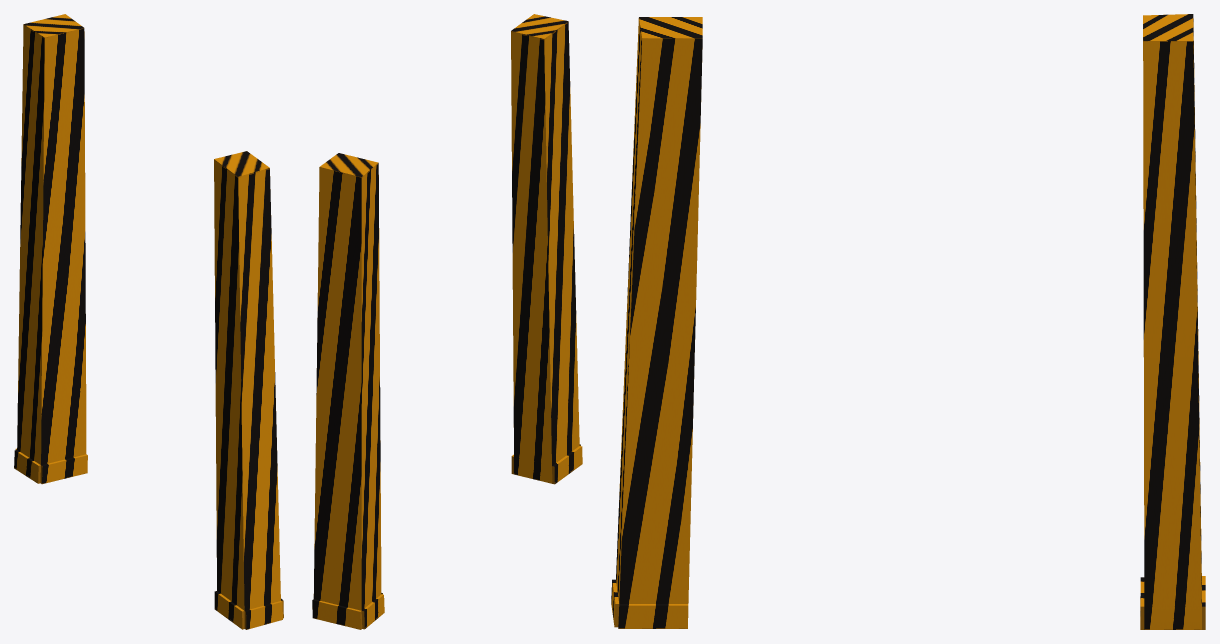
The model's file is dev_metaldoorr2.FBX.
The picture shows the model from 3 angles, left to right: view 1: azimuth 30°, elevation 25°; view 2: azimuth 150°, elevation 25°; view 3: azimuth 270°, elevation 25°; orthographic projection. The views are drawn at different scales.
Visible parts, largest first — view 1: Box003, Box002; view 2: Box003, Box002; view 3: Box002, Box003.
Part boxes in pixels (bbox=[...]): Box003: bbox=[14, 14, 87, 484]; Box002: bbox=[214, 151, 283, 629]; Box003: bbox=[312, 153, 384, 629]; Box002: bbox=[511, 14, 582, 484]; Box002: bbox=[611, 17, 702, 628]; Box003: bbox=[1140, 14, 1205, 629].
Bounding box in the file's own units: 10.24 × 85.92 × 78.79.
Materials: 1 (1 with a texture image).
